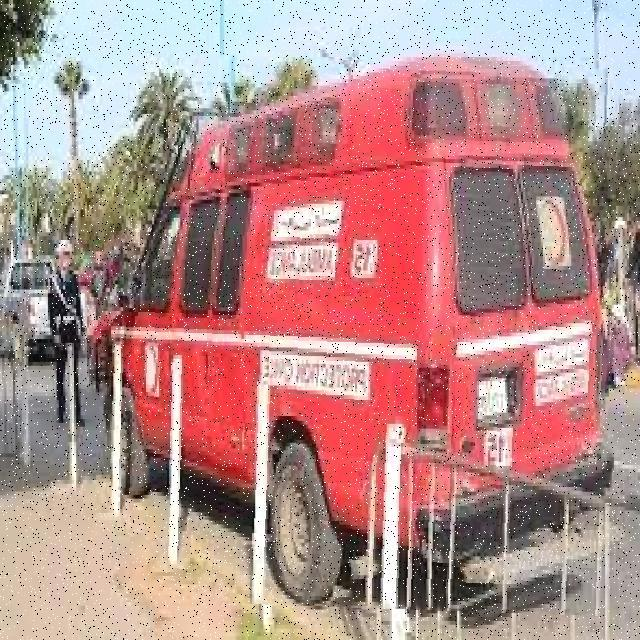ambulance: (97, 55, 616, 612)
